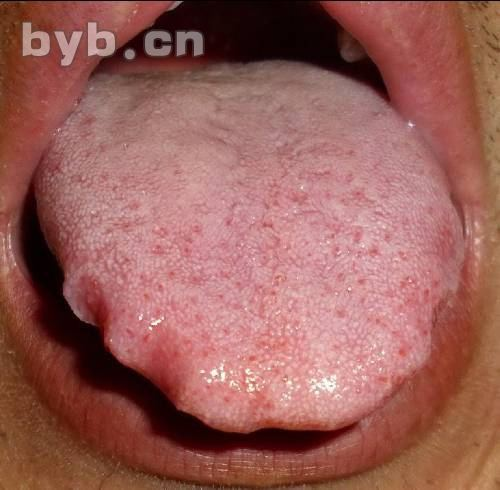baitaishe: (32, 58, 463, 433)
chihenshe: (56, 262, 117, 353)
hongdianshe: (221, 215, 235, 230), (394, 344, 407, 360), (367, 245, 380, 261), (245, 351, 258, 364), (166, 267, 176, 279)
